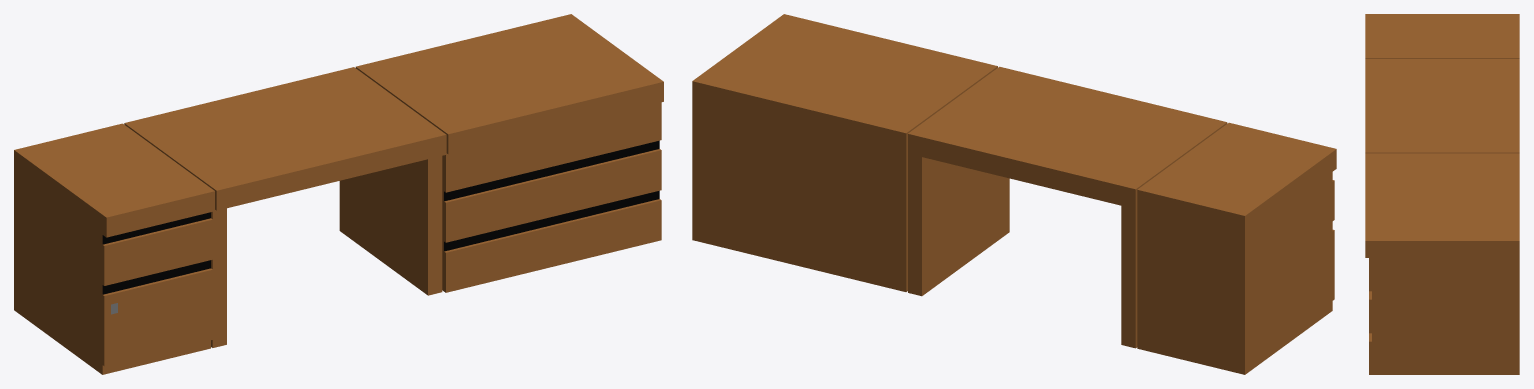
Rendered from desk.fbx.
3 views of the same model, side by side, from view 1: azimuth 30°, elevation 25°; view 2: azimuth 150°, elevation 25°; view 3: azimuth 270°, elevation 25° (orthographic). The views are drawn at different scales.
Parts seen in each view (by area): view 1: Cube.001, Cube.002, Cube; view 2: Cube.001, Cube.002, Cube; view 3: Cube.001, Cube, Cube.002.
Boxes of the visible parts, <box> form: Cube.001: <box>355,14,663,292</box>; Cube.002: <box>14,123,214,374</box>; Cube: <box>124,67,446,347</box>; Cube.001: <box>692,14,997,291</box>; Cube.002: <box>1137,122,1336,374</box>; Cube: <box>908,66,1227,348</box>; Cube.001: <box>1365,153,1519,374</box>; Cube: <box>1365,59,1519,153</box>; Cube.002: <box>1365,14,1519,58</box>.
Size of the model in its own units: 728 by 200 by 209.
